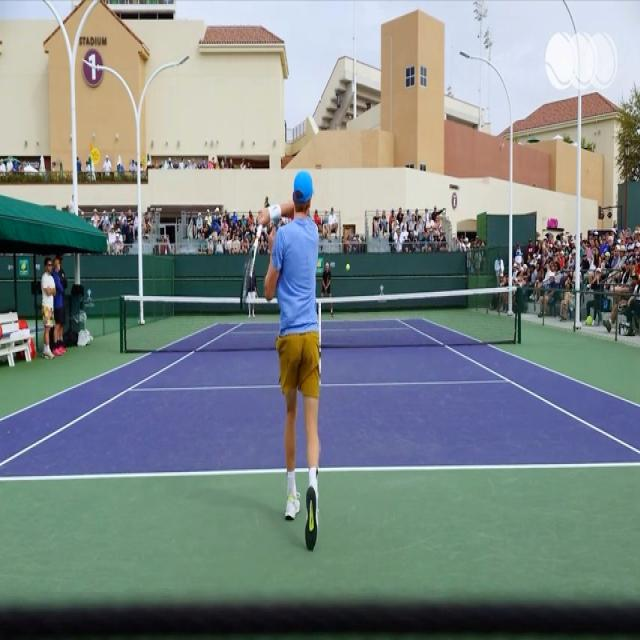forehand-finish: (242, 165, 324, 565)
